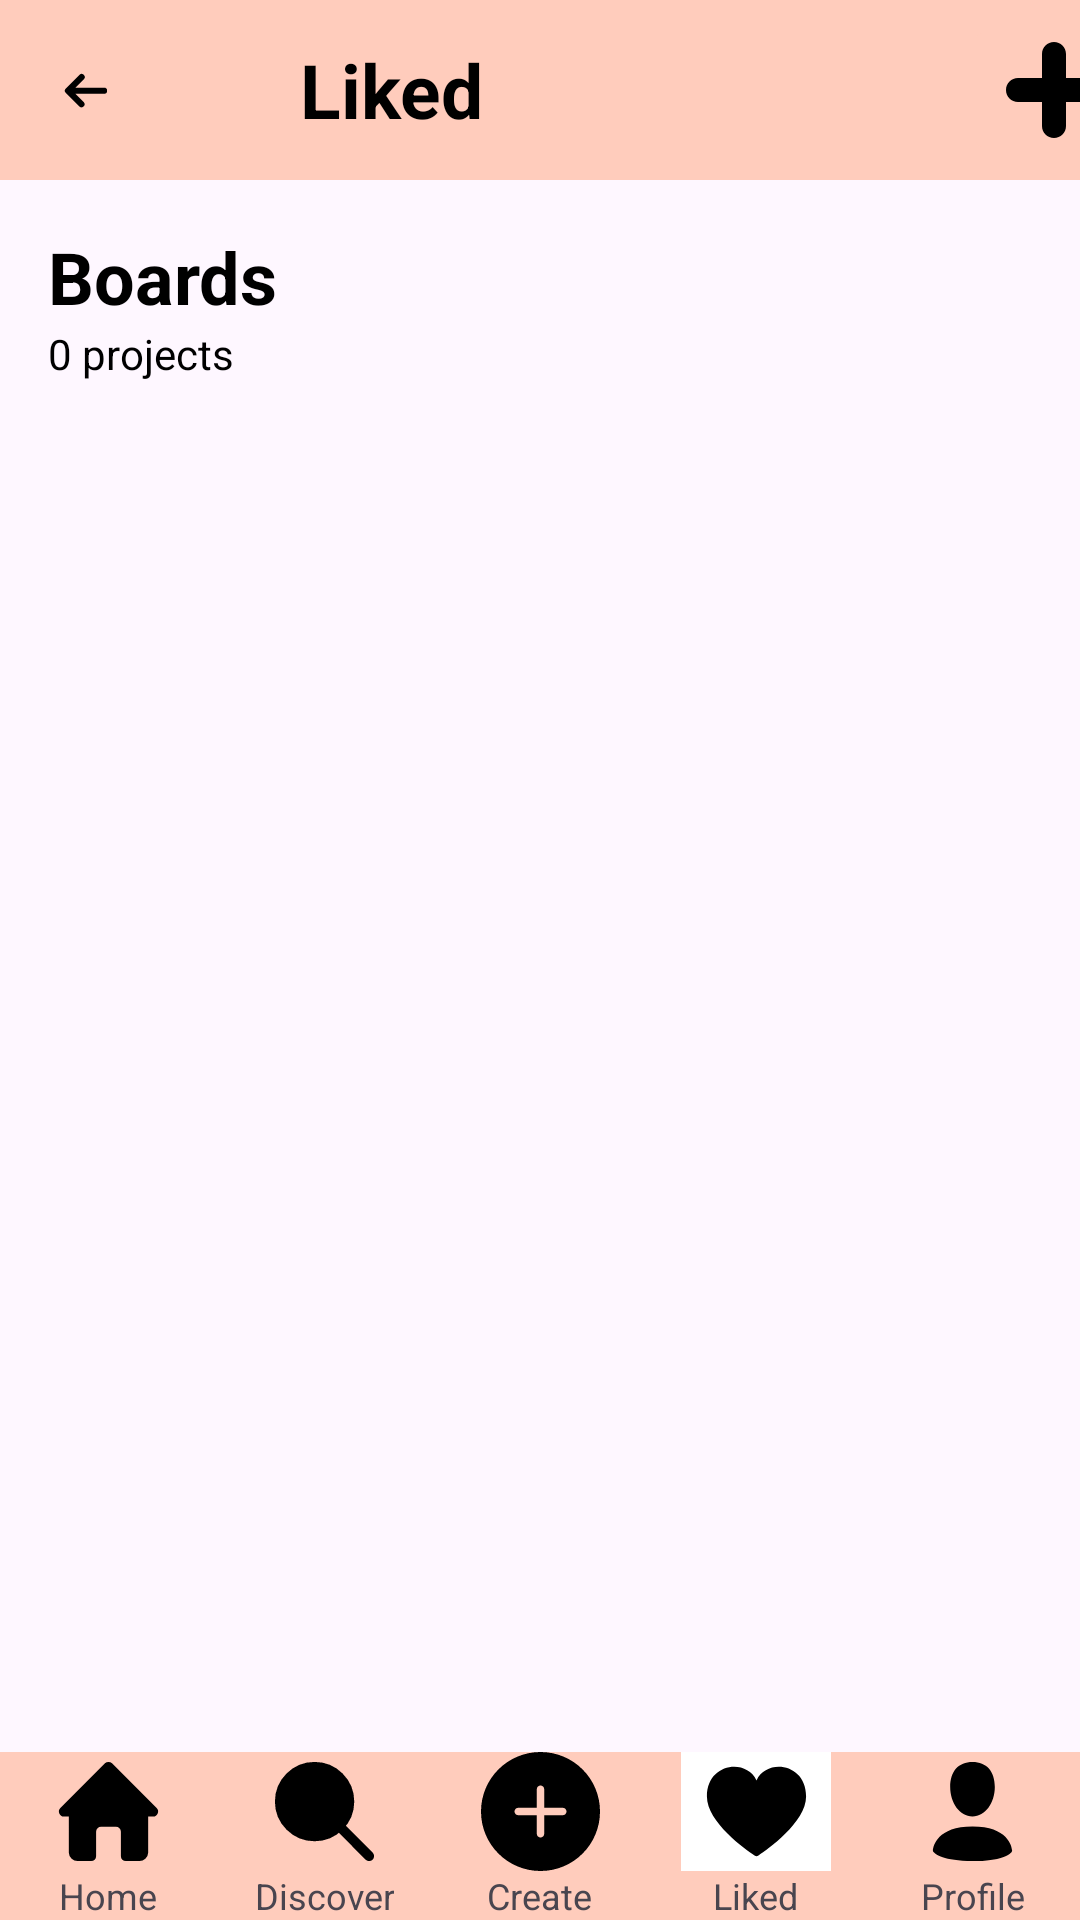

Named icons in this screenshot (1080px×1920px) and their centers, (x=x, y=y):
arrow left: (x=85, y=90)
